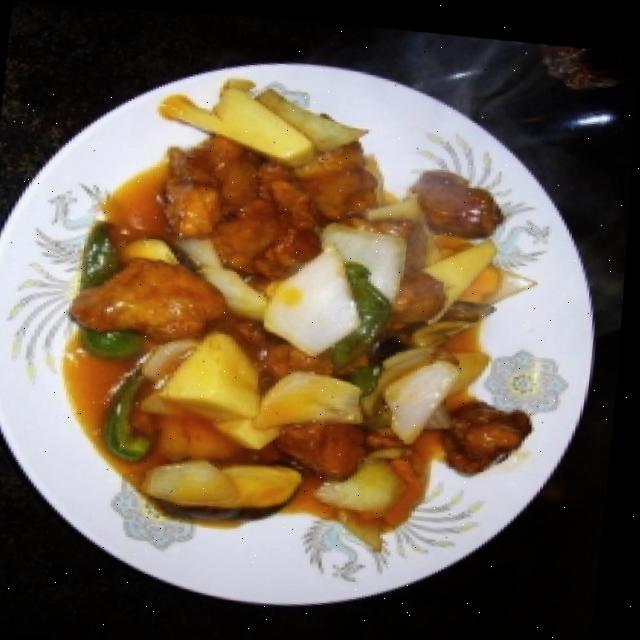猪肉菜式: (48, 66, 567, 554)
